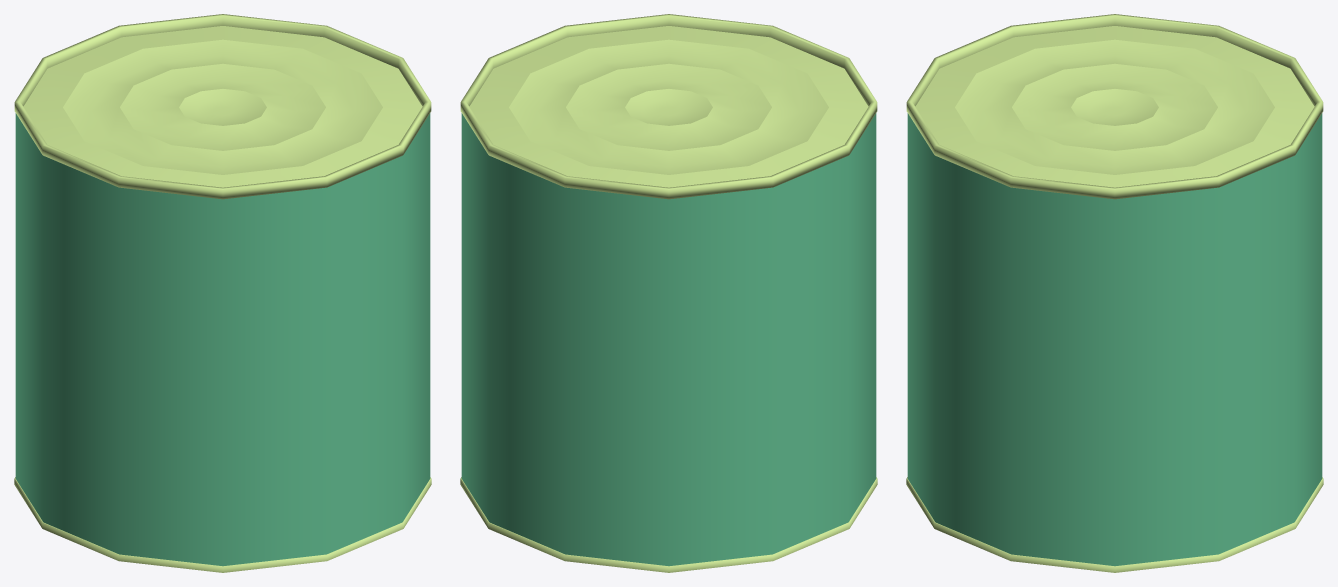
The model's file is latafechada.fbx.
3 views of the same model, side by side, from view 1: azimuth 30°, elevation 25°; view 2: azimuth 150°, elevation 25°; view 3: azimuth 270°, elevation 25° (orthographic).
Parts seen in each view (by area): view 1: latafechada; view 2: latafechada; view 3: latafechada.
Part boxes in pixels (<box>): latafechada: <box>14,14,431,572</box>; latafechada: <box>460,14,877,572</box>; latafechada: <box>906,14,1323,572</box>.
Size of the model in its own units: 9.11 by 9.23 by 9.11.
